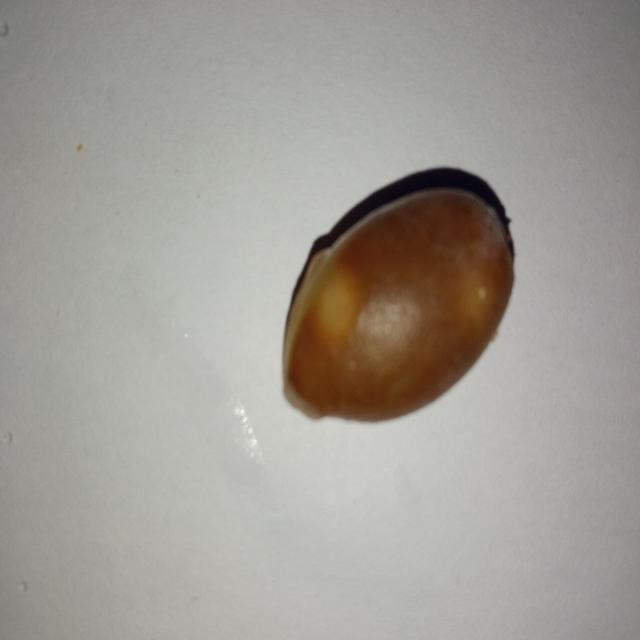rotten_grape: (279, 172, 511, 424)
